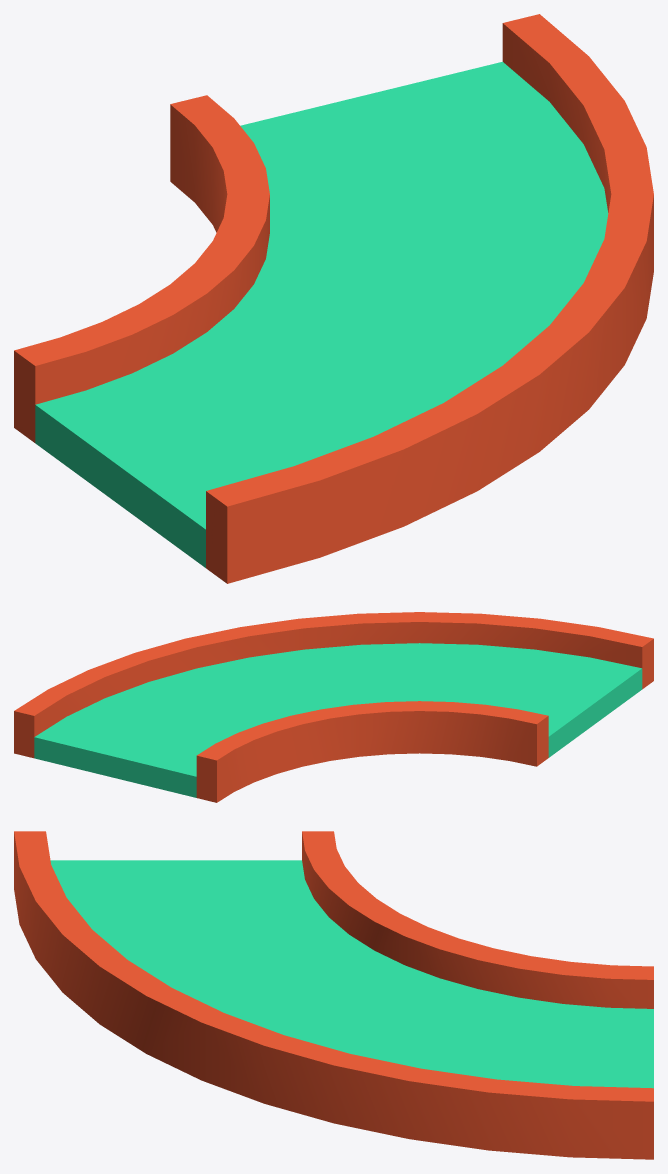
The model's file is track_2.fbx.
3 views of the same model, one above another, from view 1: azimuth 30°, elevation 25°; view 2: azimuth 150°, elevation 25°; view 3: azimuth 270°, elevation 25° (orthographic). The views are drawn at different scales.
Parts seen in each view (by area): view 1: bend_large_10; view 2: bend_large_10; view 3: bend_large_10.
Part boxes in pixels (x1=…): bend_large_10: x1=14, y1=14, x2=653, y2=583; bend_large_10: x1=14, y1=612, x2=653, y2=802; bend_large_10: x1=14, y1=831, x2=653, y2=1159.
Size of the model in its own units: 20 by 2 by 20.
